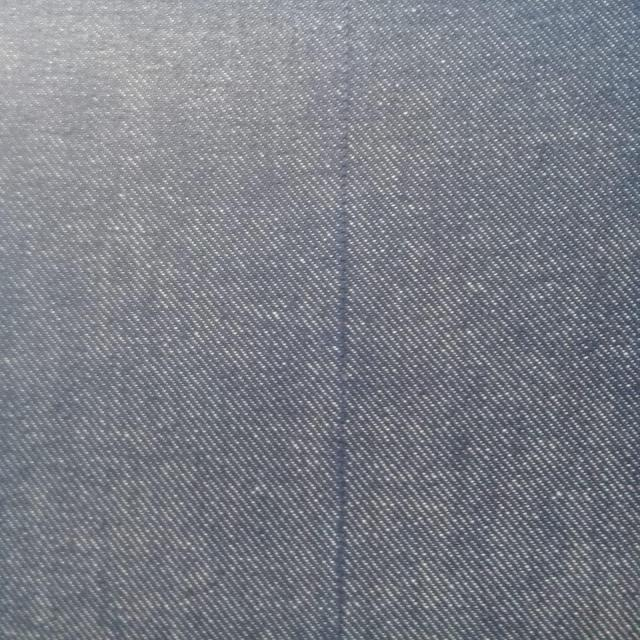Line: (330, 0, 353, 640)
